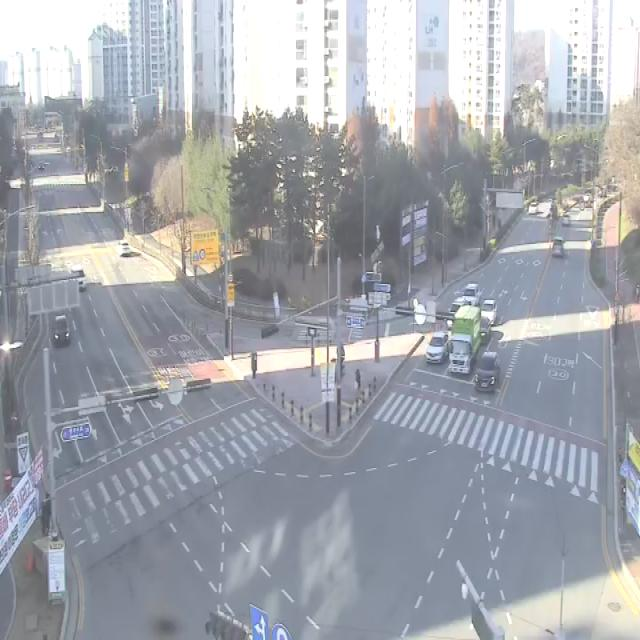Car: (476, 352, 500, 394), (426, 333, 448, 365), (447, 298, 467, 327), (462, 284, 483, 310), (54, 315, 70, 346), (481, 300, 498, 324), (70, 268, 86, 289), (552, 238, 566, 259), (117, 238, 131, 257), (529, 202, 537, 214)
Truck: (447, 307, 481, 374)
